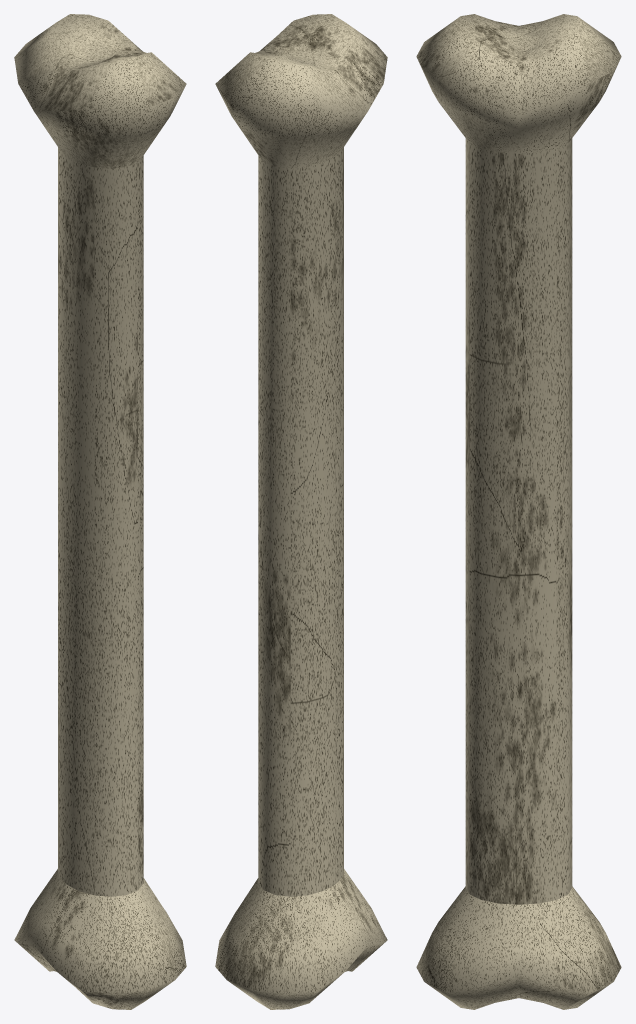
File: long_bone.fbx
3 views of the same model, side by side, from view 1: azimuth 30°, elevation 25°; view 2: azimuth 150°, elevation 25°; view 3: azimuth 270°, elevation 25° (orthographic). The views are drawn at different scales.
Visible parts, largest first — view 1: Cylinder.001; view 2: Cylinder.001; view 3: Cylinder.001.
Part boxes in pixels (bbox=[...]): Cylinder.001: bbox=[14, 14, 186, 1009]; Cylinder.001: bbox=[215, 14, 387, 1009]; Cylinder.001: bbox=[416, 14, 621, 1009].
Size of the model in its own units: 297 by 2027 by 384.
